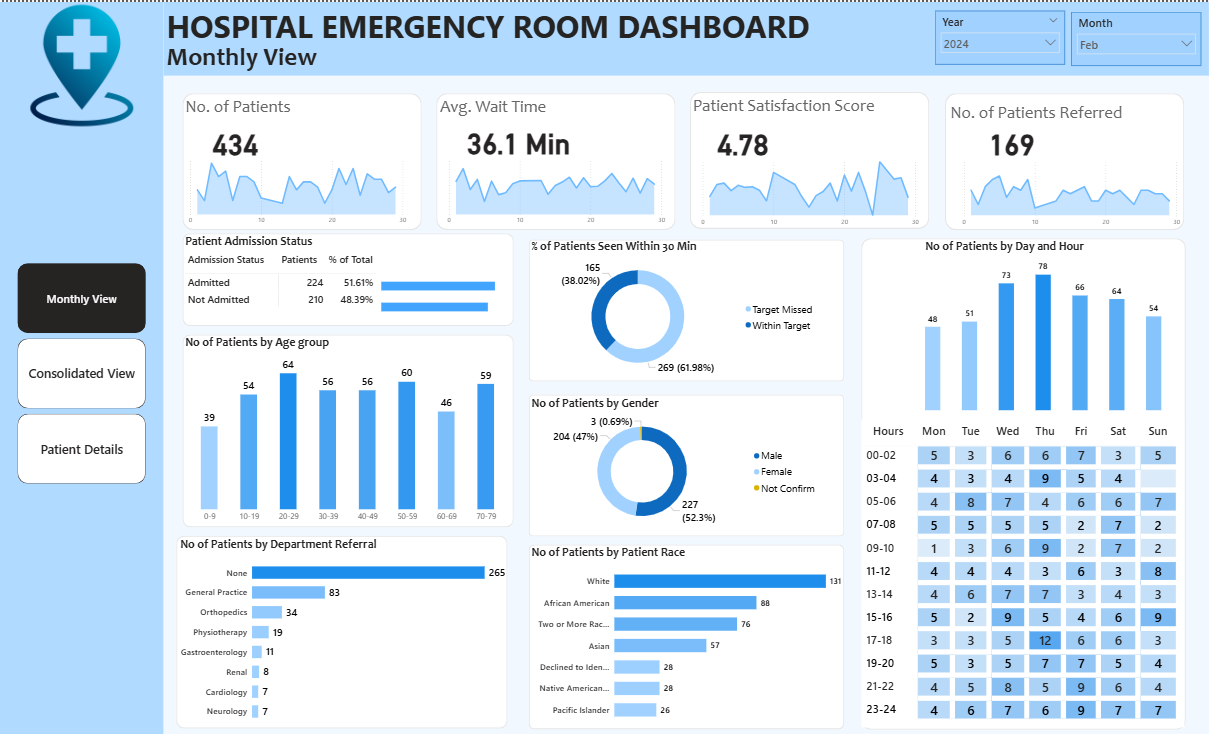

What the dashboard file says about the page in this screenshot:
{"tool":"powerbi","page":{"name":"Monthly View","canvas":[2300,1400],"ordinal":0},"visuals":[{"type":"shape","box":[1313.6,170.8,455,260.4],"z":0},{"type":"shape","box":[347.2,173.6,455,260.4],"z":1000},{"type":"shape","box":[0,0,310.8,1400],"z":2000},{"type":"shape","box":[310.8,0,1988,140],"z":3000},{"type":"textbox","box":[310.8,0,1271.2,98],"z":4000},{"type":"textbox","box":[310.8,70,322,70],"z":5000},{"type":"card","fields":{"Values":["Hospital ER_Data.NO of Patients"]},"box":[347.2,204.4,201.6,123.2],"z":6000},{"type":"slicer","fields":{"Values":["Date Table.Year"]},"box":[1777.8,16.7,247.2,102.8],"z":7000},{"type":"textbox","box":[347.2,173.6,246.4,58.8],"z":8000},{"type":"areaChart","fields":{"Category":["Date Table.Date.Variation.Date Hierarchy.Day"],"Y":["Hospital ER_Data.NO of Patients"]},"box":[347.2,288.4,434,145.6],"z":9000},{"type":"shape","box":[830.4,173.6,455,260.4],"z":11000},{"type":"card","fields":{"Values":["Hospital ER_Data.Avg wait time"]},"box":[870.8,201.6,232.4,123.2],"z":12000},{"type":"textbox","box":[826,173.6,277.2,58.8],"z":13000},{"type":"areaChart","fields":{"Category":["Date Table.Date.Variation.Date Hierarchy.Day"],"Y":["Avg(Hospital ER_Data.Patient Waittime)"]},"box":[840,288.4,434,145.6],"z":14000},{"type":"card","fields":{"Values":["Hospital ER_Data.Satisfaction Score"]},"box":[1313.6,204.8,201.6,123.2],"z":15000},{"type":"textbox","box":[1313.2,170.8,364,61.6],"z":16000},{"type":"areaChart","fields":{"Category":["Date Table.Date.Variation.Date Hierarchy.Day"],"Y":["Hospital ER_Data.Satisfaction Score"]},"box":[1321.6,291.2,434,145.6],"z":17000},{"type":"shape","box":[1796.7,172.4,455,260.4],"z":18000},{"type":"card","fields":{"Values":["Hospital ER_Data.No of Patients Referred"]},"box":[1822.8,204.4,201.6,123.2],"z":19000},{"type":"textbox","box":[1803.2,184.8,355.6,58.8],"z":20000},{"type":"areaChart","fields":{"Category":["Date Table.Date.Variation.Date Hierarchy.Day"],"Y":["Hospital ER_Data.No of Patients Referred"]},"box":[1820,291.2,434,145.6],"z":21000},{"type":"shape","box":[347.2,439.6,630,176.4],"z":22000},{"type":"pivotTable","title":"Patient Admission Status","fields":{"Rows":["Hospital ER_Data.Admission Status"],"Values":["Hospital ER_Data.No of Patients1","Hospital ER_Data.No of Patients"]},"box":[346.7,440,630,170],"z":23000},{"type":"barChart","fields":{"Category":["Hospital ER_Data.Admission Status"],"Y":["Hospital ER_Data.No of Patients"]},"box":[719.6,498.4,299.6,117.6],"z":24000},{"type":"shape","box":[347.2,632.8,630,366.8],"z":25000},{"type":"clusteredColumnChart","fields":{"Category":["Hospital ER_Data.Age group"],"Y":["Hospital ER_Data.No of Patients"]},"box":[346.7,633.3,630,366.7],"z":26000},{"type":"shape","box":[336,1016.4,630,366.8],"z":27000},{"type":"shape","box":[1005.2,450.8,600,270],"z":28000},{"type":"clusteredBarChart","fields":{"Category":["Hospital ER_Data.Department Referral"],"Y":["Hospital ER_Data.No of Patients"]},"box":[336.7,1018.3,630,365],"z":29000},{"type":"donutChart","title":"% of Patients Seen Within 30 Min","fields":{"Category":["Hospital ER_Data.Wait time status"],"Y":["Hospital ER_Data.No of Patients"]},"box":[1005,450,553.3,270],"z":30000},{"type":"shape","box":[1005,747.5,600,270],"z":31000},{"type":"donutChart","title":"No of Patients by Gender","fields":{"Y":["Hospital ER_Data.No of Patients"],"Category":["Hospital ER_Data.Patient Gender"]},"box":[1005,748.3,558.3,260],"z":32000},{"type":"shape","box":[1005,1031.7,600,351.7],"z":33000},{"type":"clusteredBarChart","fields":{"Y":["Hospital ER_Data.No of Patients"],"Category":["Hospital ER_Data.Patient Race"]},"box":[1005,1031.7,600,350],"z":34000},{"type":"shape","box":[1637.5,450,617.5,935],"z":35000},{"type":"pivotTable","fields":{"Rows":["Hospital ER_Data.Wait Time Interval"],"Values":["Hospital ER_Data.No of Patients"],"Columns":["Date Table.Day name"]},"box":[1638.1,795.2,614.3,585.7],"z":36000},{"type":"columnChart","title":"No of Patients by Day and Hour","fields":{"Y":["Hospital ER_Data.No of Patients"],"Category":["Date Table.Day name"]},"box":[1754.8,450,461.9,333.3],"z":37000},{"type":"image","box":[33.3,0,244.4,241.7],"z":38000},{"type":"pageNavigator","box":[33.3,497.2,244.4,419.4],"z":39000},{"type":"slicer","fields":{"Values":["Date Table.Month Name"]},"box":[2038.9,19.4,247.2,102.8],"z":40000}]}

Visuals, with their boxes in screenshot pixels (x1, y1, x2, y2), scaled from the page's 2300x1400 canvas onto the 1209x734 screenshot:
shape: Rect(690, 90, 930, 226)
shape: Rect(183, 91, 422, 228)
shape: Rect(0, 0, 163, 733)
shape: Rect(163, 0, 1208, 73)
textbox: Rect(163, 0, 832, 51)
textbox: Rect(163, 37, 333, 73)
card - Hospital ER_Data.NO of Patients: Rect(183, 107, 288, 172)
slicer - Date Table.Year: Rect(935, 9, 1064, 63)
textbox: Rect(183, 91, 312, 122)
areaChart - Date Table.Date.Variation.Date Hierarchy.Day x Hospital ER_Data.NO of Patients: Rect(183, 151, 411, 228)
shape: Rect(437, 91, 676, 228)
card - Hospital ER_Data.Avg wait time: Rect(458, 106, 580, 170)
textbox: Rect(434, 91, 580, 122)
areaChart - Date Table.Date.Variation.Date Hierarchy.Day x Avg(Hospital ER_Data.Patient Waittime): Rect(442, 151, 670, 228)
card - Hospital ER_Data.Satisfaction Score: Rect(690, 107, 796, 172)
textbox: Rect(690, 90, 882, 122)
areaChart - Date Table.Date.Variation.Date Hierarchy.Day x Hospital ER_Data.Satisfaction Score: Rect(695, 153, 923, 229)
shape: Rect(944, 90, 1184, 227)
card - Hospital ER_Data.No of Patients Referred: Rect(958, 107, 1064, 172)
textbox: Rect(948, 97, 1135, 128)
areaChart - Date Table.Date.Variation.Date Hierarchy.Day x Hospital ER_Data.No of Patients Referred: Rect(957, 153, 1185, 229)
shape: Rect(183, 230, 514, 323)
"Patient Admission Status" pivotTable: Rect(182, 231, 513, 320)
barChart - Hospital ER_Data.Admission Status x Hospital ER_Data.No of Patients: Rect(378, 261, 536, 323)
shape: Rect(183, 332, 514, 524)
clusteredColumnChart - Hospital ER_Data.Age group x Hospital ER_Data.No of Patients: Rect(182, 332, 513, 524)
shape: Rect(177, 533, 508, 725)
shape: Rect(528, 236, 844, 378)
clusteredBarChart - Hospital ER_Data.Department Referral x Hospital ER_Data.No of Patients: Rect(177, 534, 508, 725)
"% of Patients Seen Within 30 Min" donutChart: Rect(528, 236, 819, 377)
shape: Rect(528, 392, 844, 533)
"No of Patients by Gender" donutChart: Rect(528, 392, 822, 529)
shape: Rect(528, 541, 844, 725)
clusteredBarChart - Hospital ER_Data.No of Patients x Hospital ER_Data.Patient Race: Rect(528, 541, 844, 724)
shape: Rect(861, 236, 1185, 726)
pivotTable - Hospital ER_Data.Wait Time Interval x Hospital ER_Data.No of Patients: Rect(861, 417, 1184, 724)
"No of Patients by Day and Hour" columnChart: Rect(922, 236, 1165, 411)
image: Rect(18, 0, 146, 127)
pageNavigator: Rect(18, 261, 146, 481)
slicer - Date Table.Month Name: Rect(1072, 10, 1202, 64)
